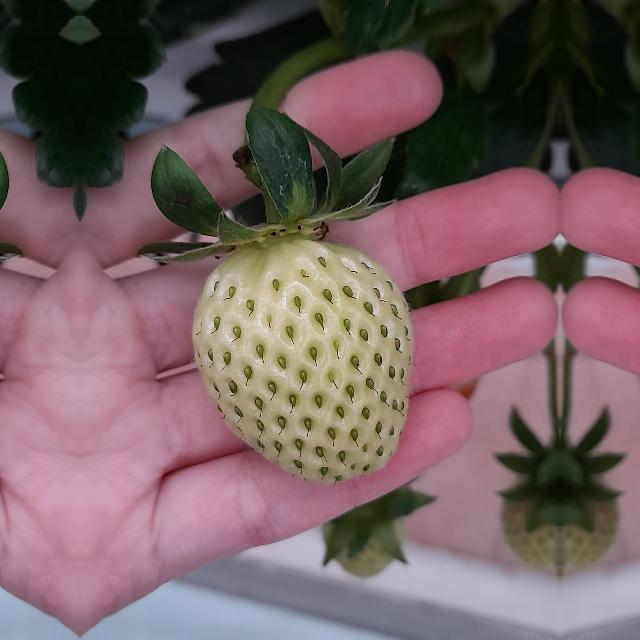Health_25: (192, 239, 412, 483)
